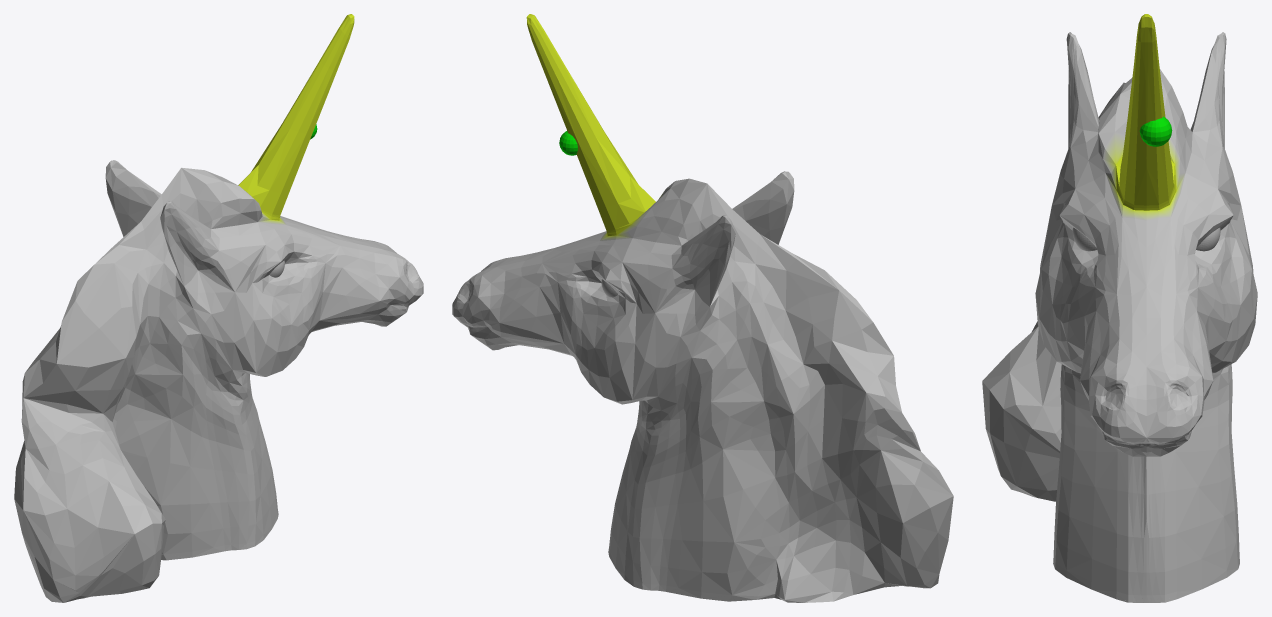
Rendered from unicorn_bsb.glb.
3 views of the same model, side by side, from view 1: azimuth 30°, elevation 25°; view 2: azimuth 150°, elevation 25°; view 3: azimuth 270°, elevation 25° (orthographic). The views are drawn at different scales.
Bounding box in the file's own units: 1.42 × 1.51 × 0.5923.
